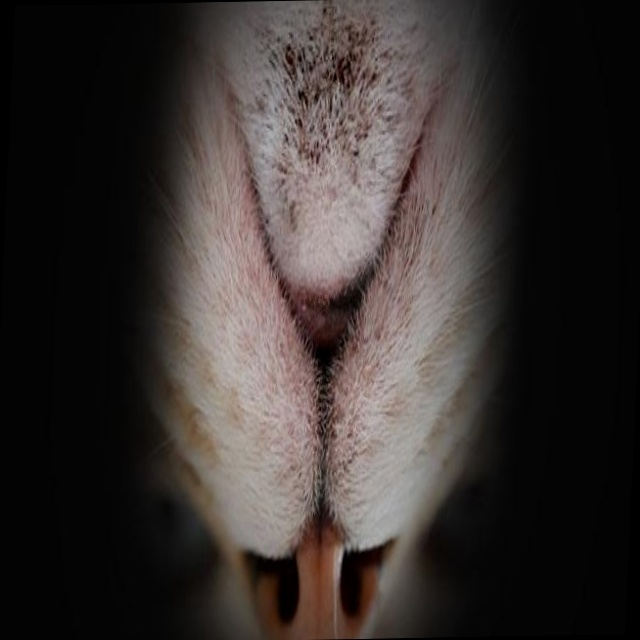acne: (278, 3, 381, 188)
